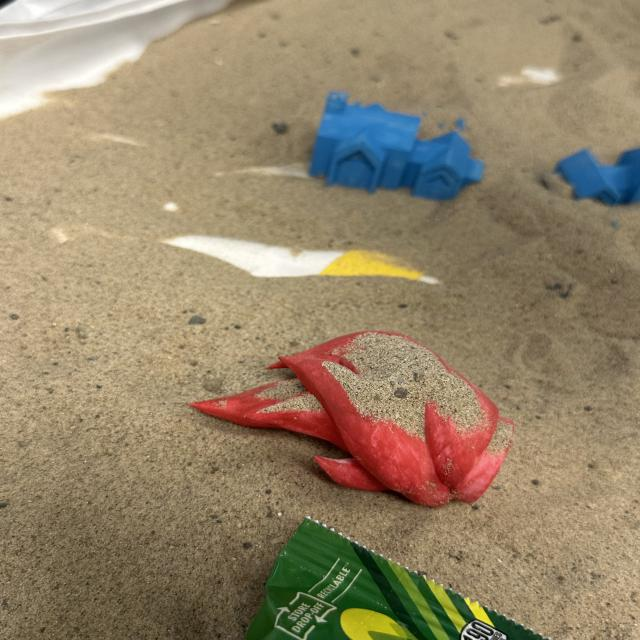fire: (186, 328, 516, 508)
house: (307, 89, 490, 206), (529, 140, 640, 211)
